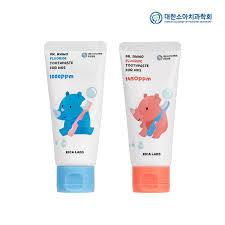toothpaste: (44, 39, 118, 206), (118, 36, 182, 193)
